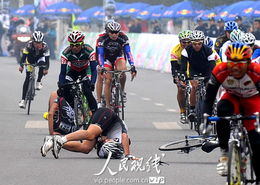10+: (1, 5, 258, 184)
down: (35, 105, 146, 166), (41, 79, 90, 138)
